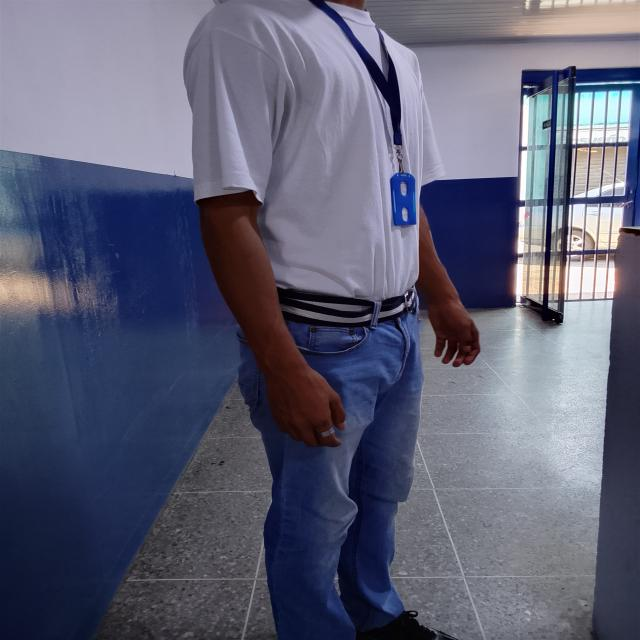carnet: (390, 172, 417, 226)
